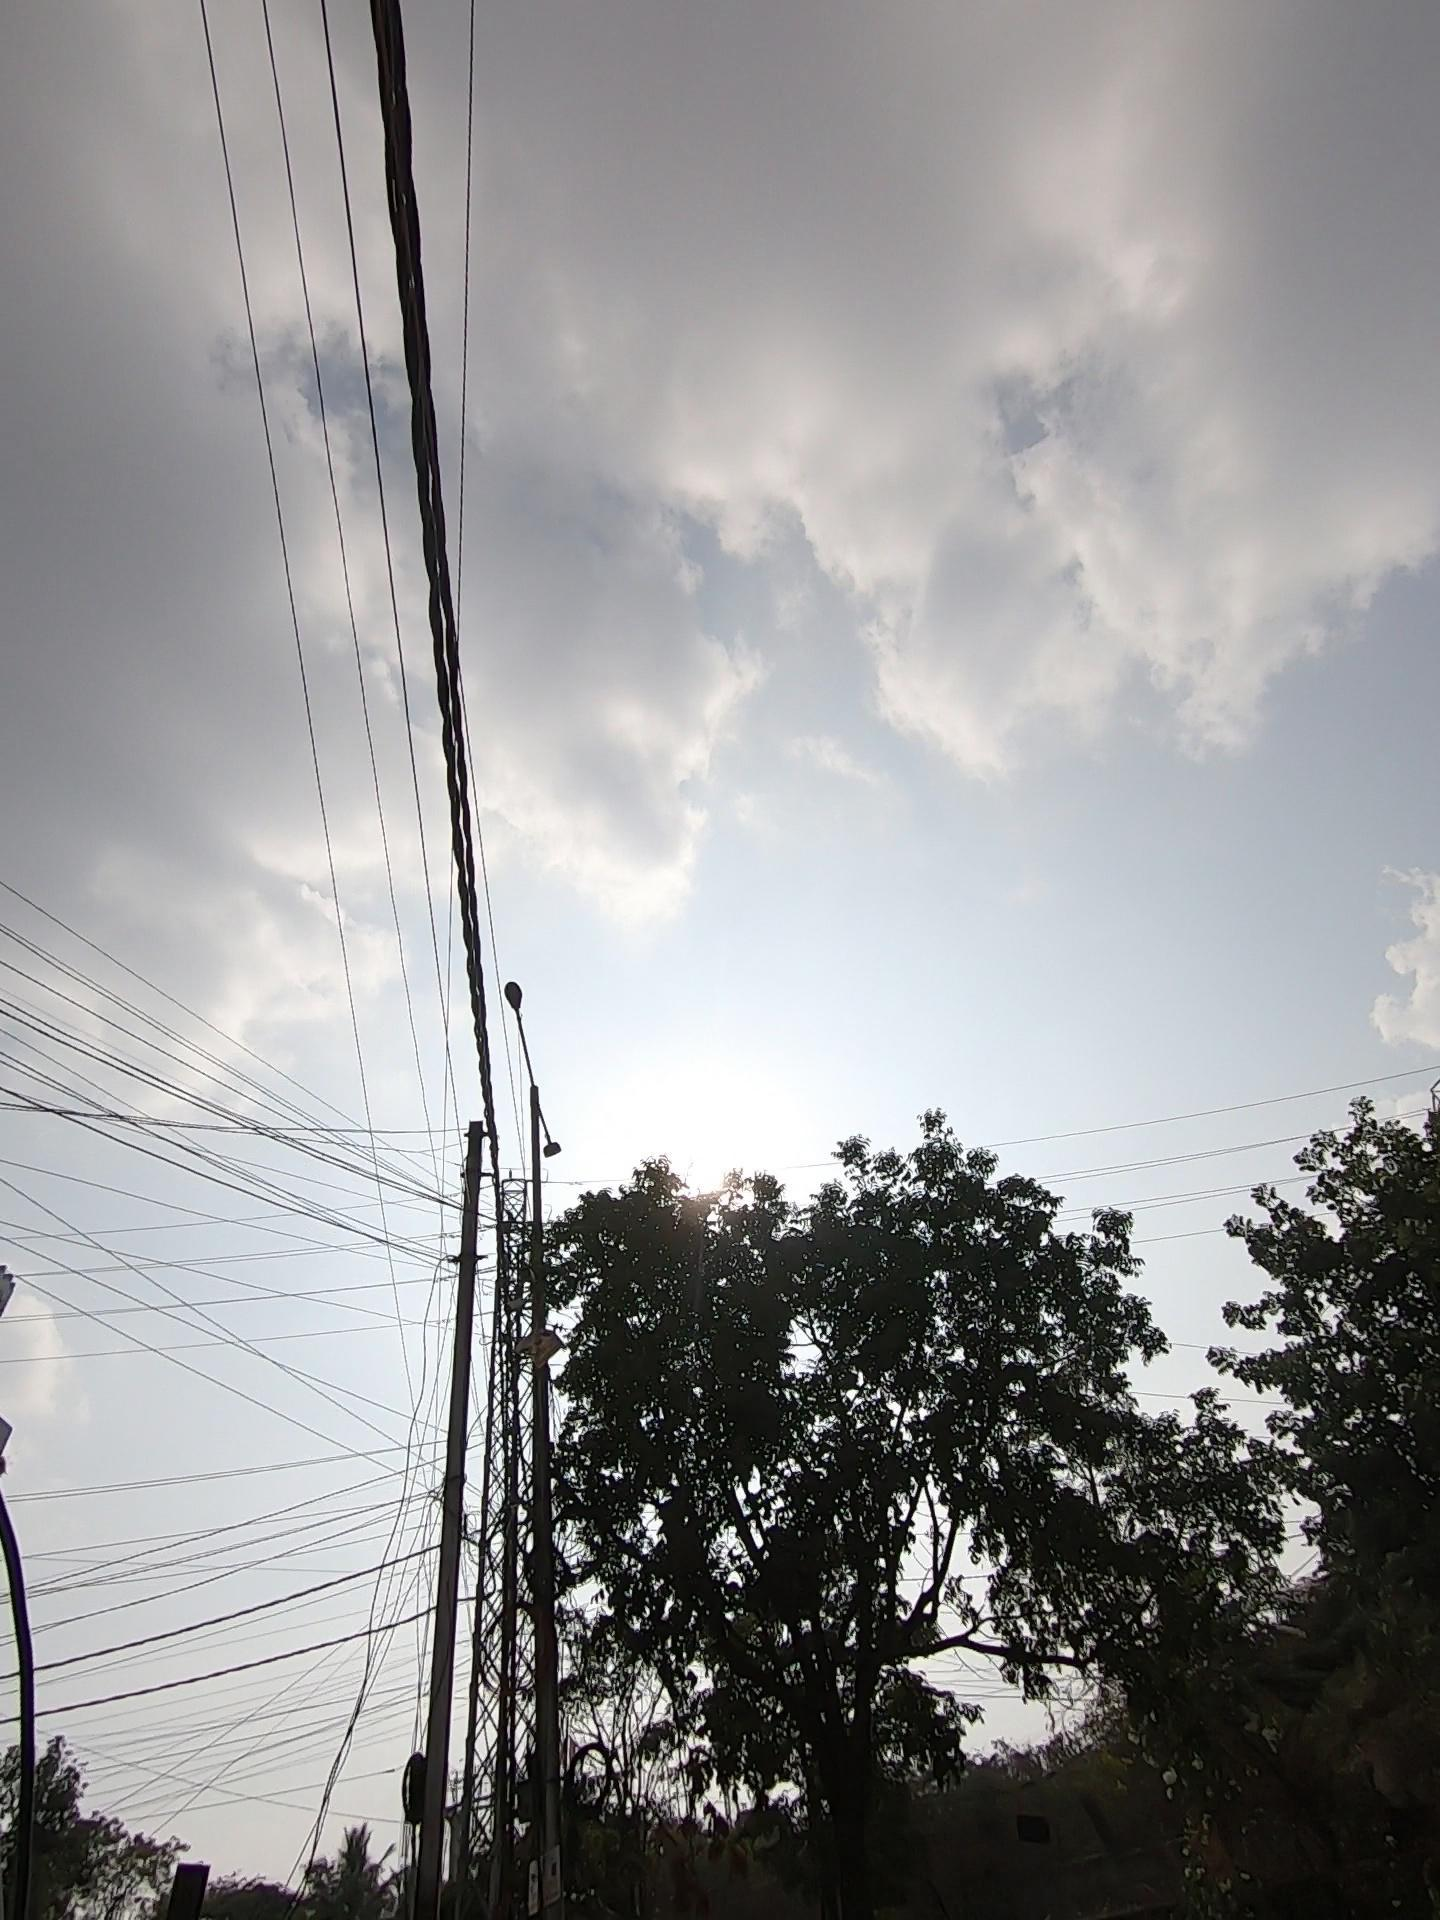off: (451, 871, 643, 1220)
